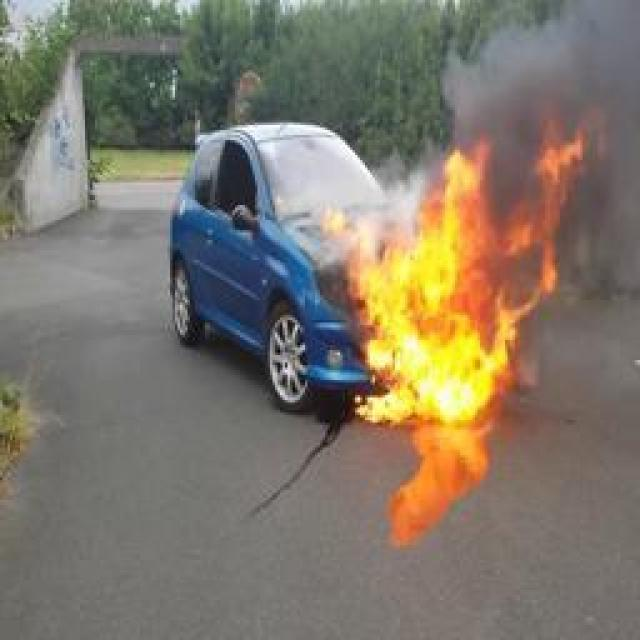Fire: (332, 130, 586, 422)
